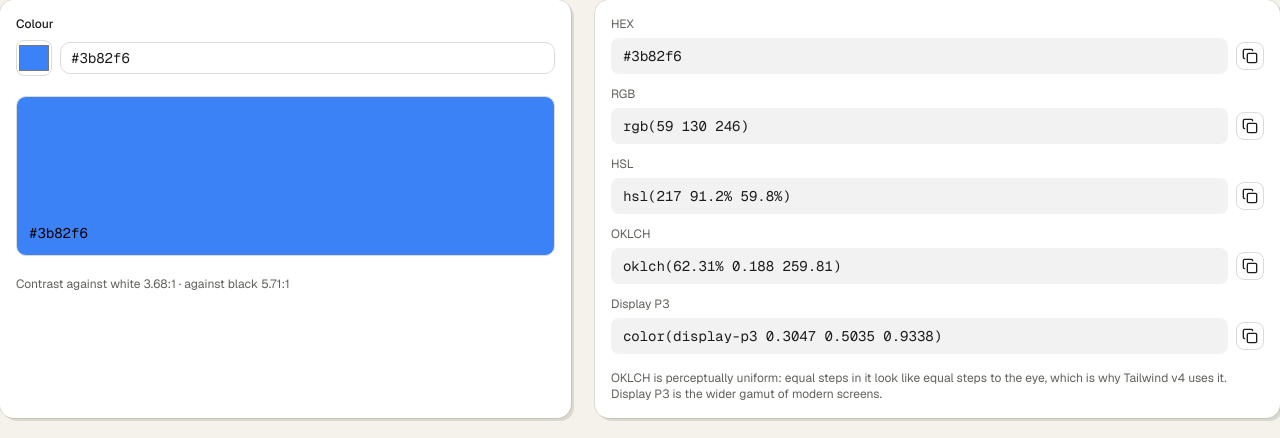
ColourConverterTool › reconverts everything from a newly typed colour
The image size is (1280, 438).
Step 1. Clear the field labelled "Colour" → coordinates (307, 58), box [60,42,555,74]
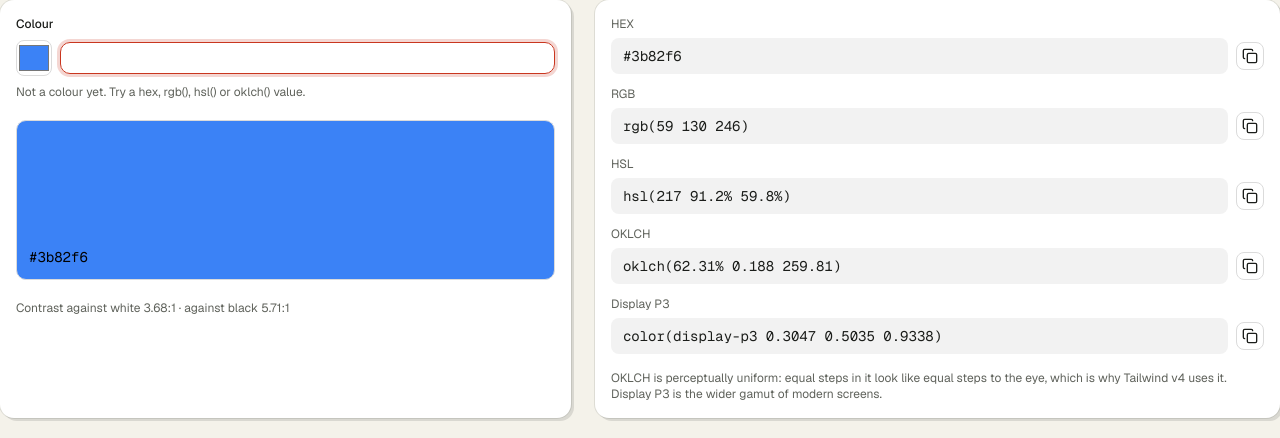
Step 2. Type keys "#ff0000"
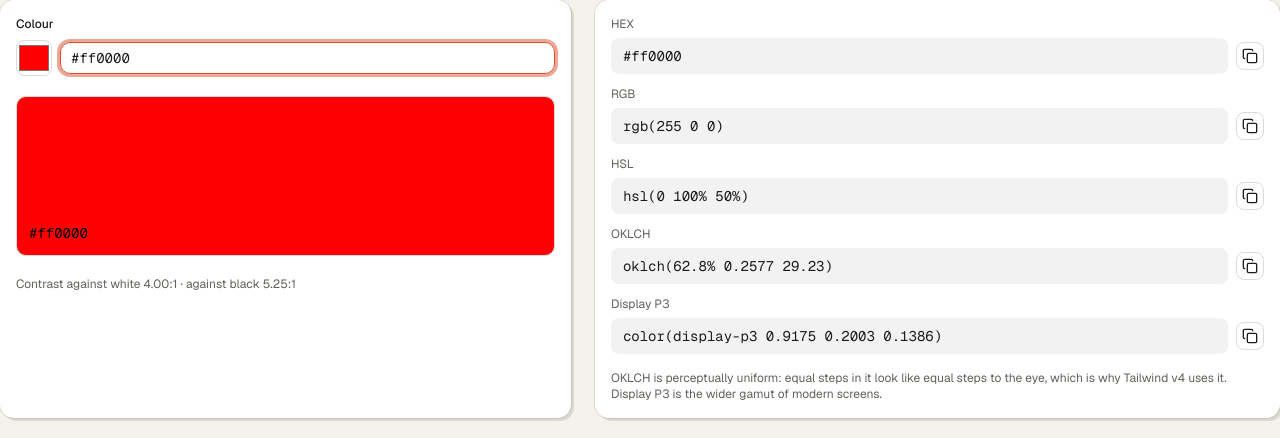
Expected: the text "oklch(62.8% 0.2577 29.23)" is shown, [611,248,1228,284]
Expected: the text "rgb(255 0 0)" is shown, [611,108,1228,144]
Expected: the text "hsl(0 100% 50%)" is shown, [611,178,1228,214]
